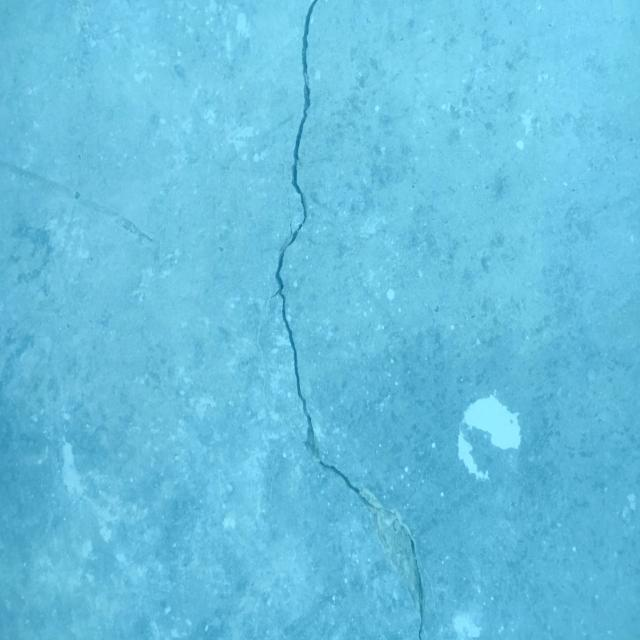crack: (270, 0, 426, 640)
